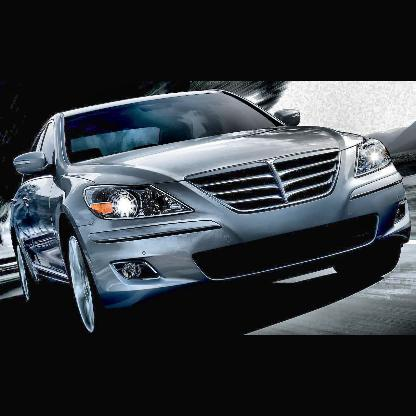Hyundai Genesis Sedan 2012: (10, 89, 410, 333)
